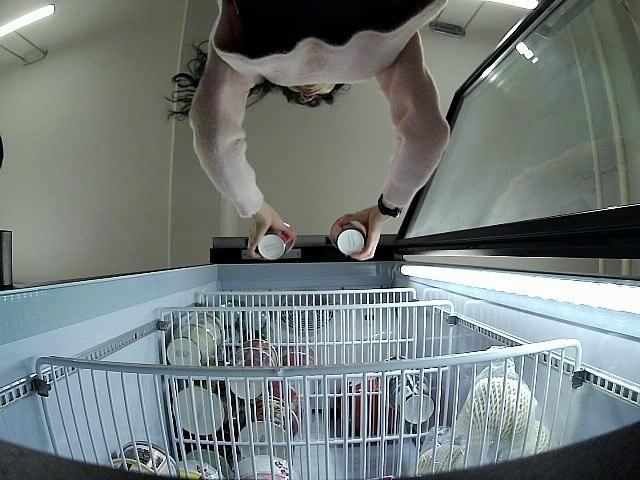02_shinRamen_S: (329, 215, 368, 255), (256, 223, 296, 260)
